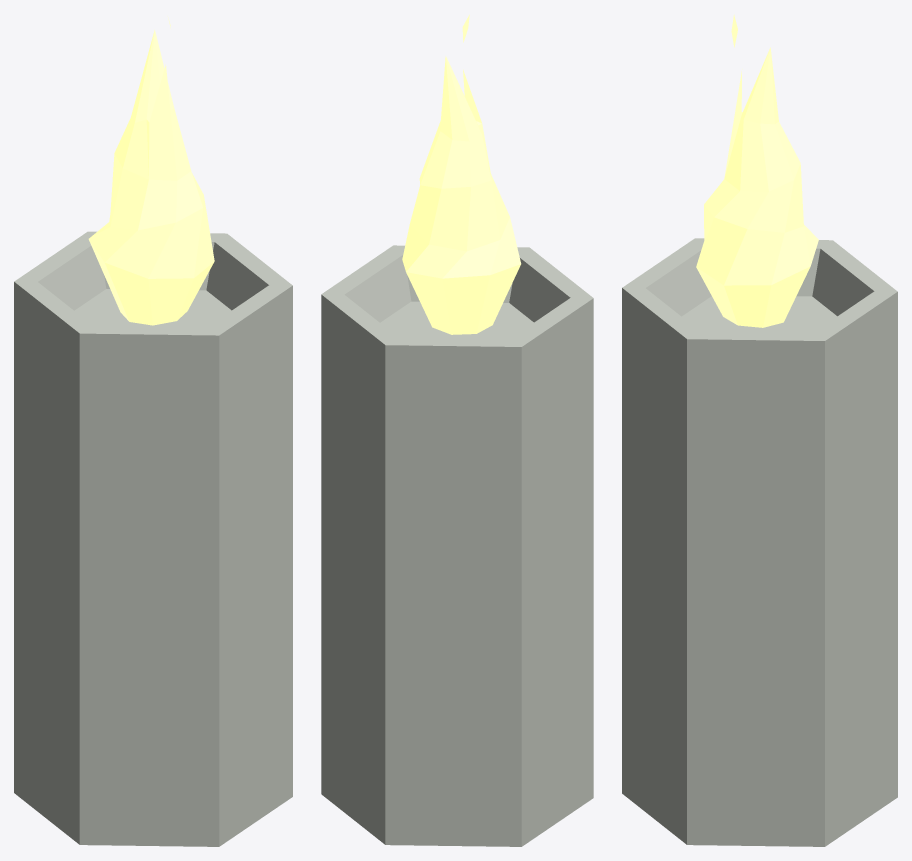
Rendered from candle_2.fbx.
3 renders of one model, left to right at view 1: azimuth 30°, elevation 25°; view 2: azimuth 150°, elevation 25°; view 3: azimuth 270°, elevation 25°, orthographic. The views are drawn at different scales.
Parts seen in each view (by area): view 1: candle_2; view 2: candle_2; view 3: candle_2.
Part boxes in pixels (x1,y1,x2,y2): candle_2: (14, 16, 292, 846); candle_2: (321, 14, 593, 846); candle_2: (622, 14, 897, 846).
Size of the model in its own units: 13.85 by 49.09 by 15.69.
